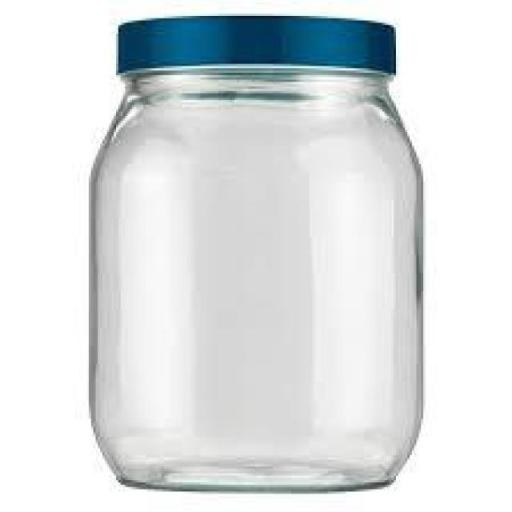glass: (76, 8, 441, 501)
